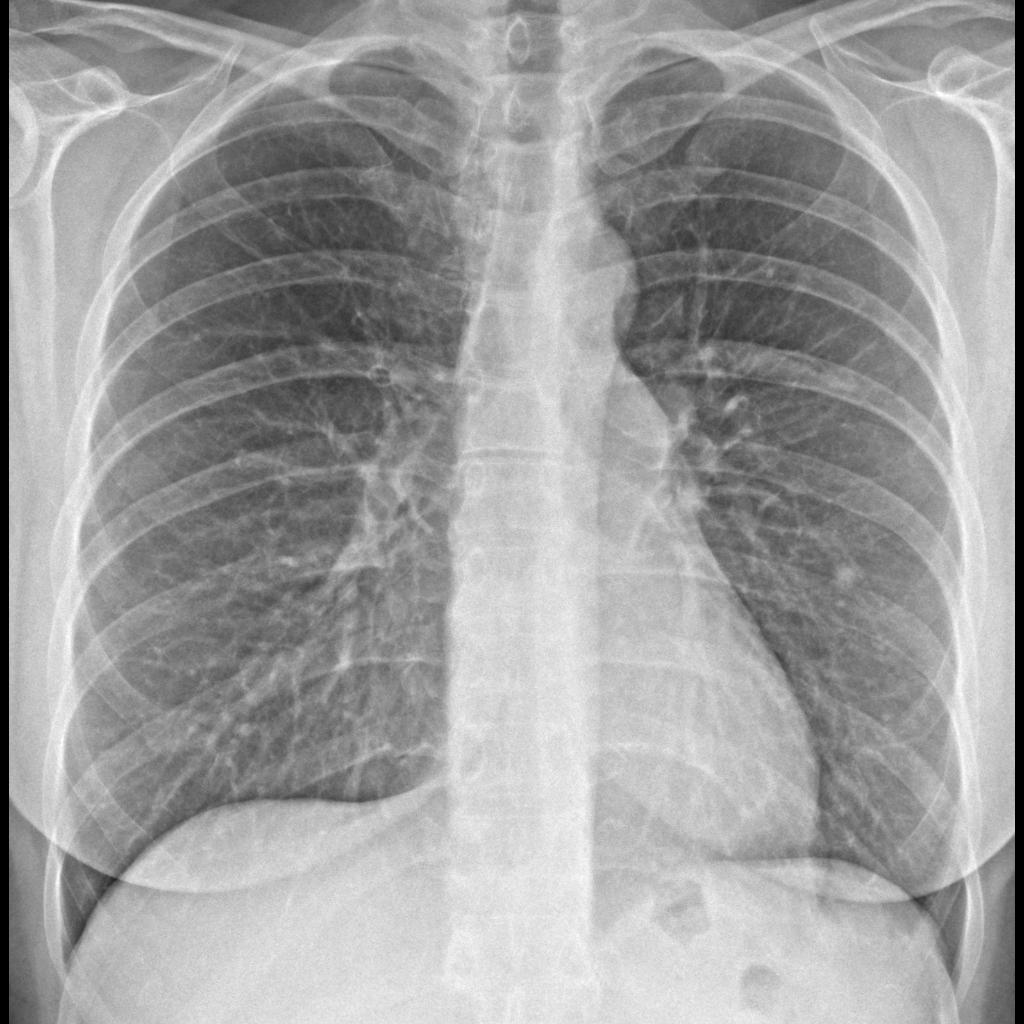Nodule: (828, 556, 871, 603)
